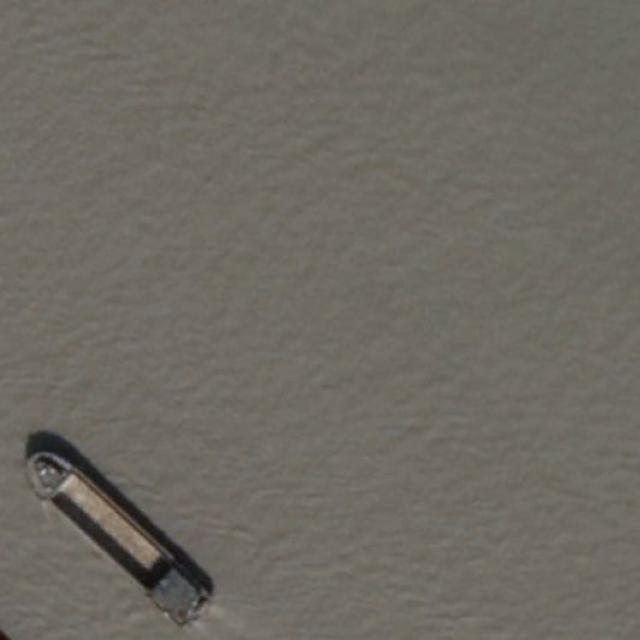boat: (23, 448, 215, 630)
